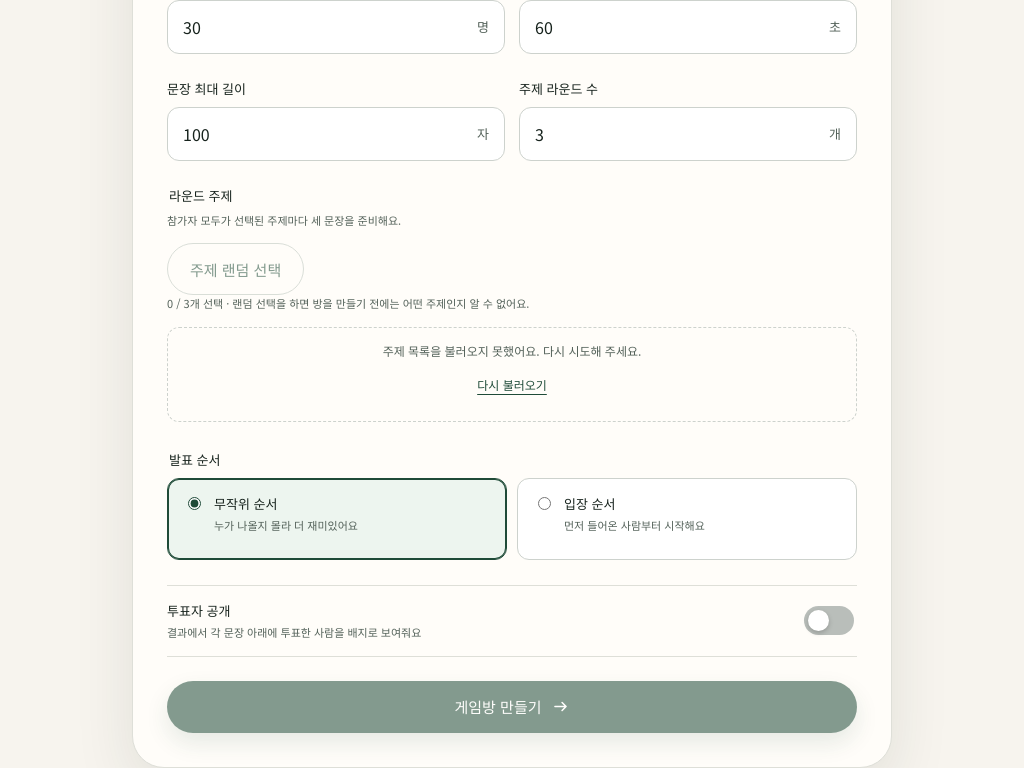
CreateRoomPage › 로딩과 오류 중에는 랜덤 선택을 막고 목록 재조회 후 허용한다
The image size is (1024, 768).
(page scrolled)
Expected: the text "주제 목록을 불러오지 못했어요. 다시 시도해 주세요." is shown, top-left (383, 342), bottom-right (641, 359)
Expected: the button "주제 랜덤 선택" is disabled, top-left (167, 243), bottom-right (304, 295)
Click the button "다시 불러오기".
click(512, 385)  # box top-left (467, 363), bottom-right (557, 407)
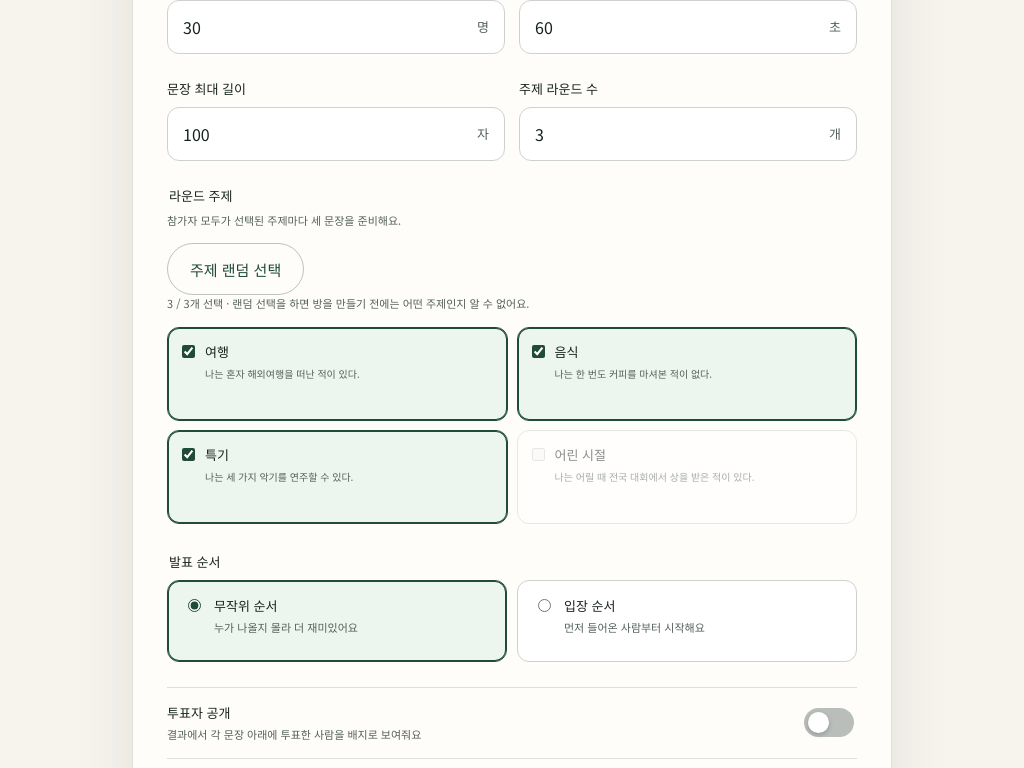
Expected: the button "주제 랜덤 선택" is enabled, top-left (167, 243), bottom-right (304, 295)
